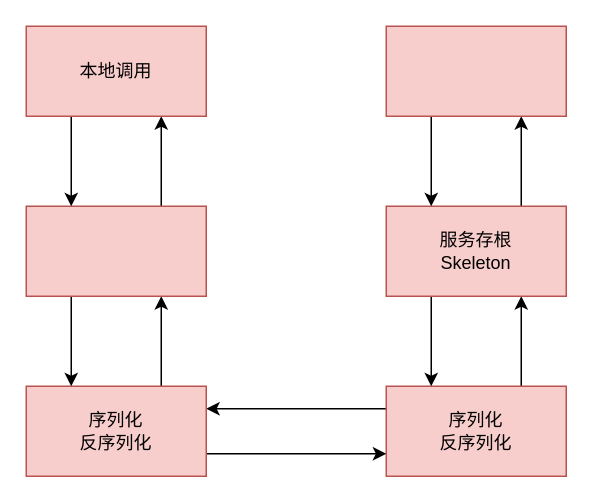
Some shapes in this 593 by 503 pixel diagram are drawn without their labels. The shapes that lost their labels are listed below. From the top down, each one's centre as x and y in pixels, then its label:
At (475,70): "服务实现".
At (115,250): "代理存根 Stub".
